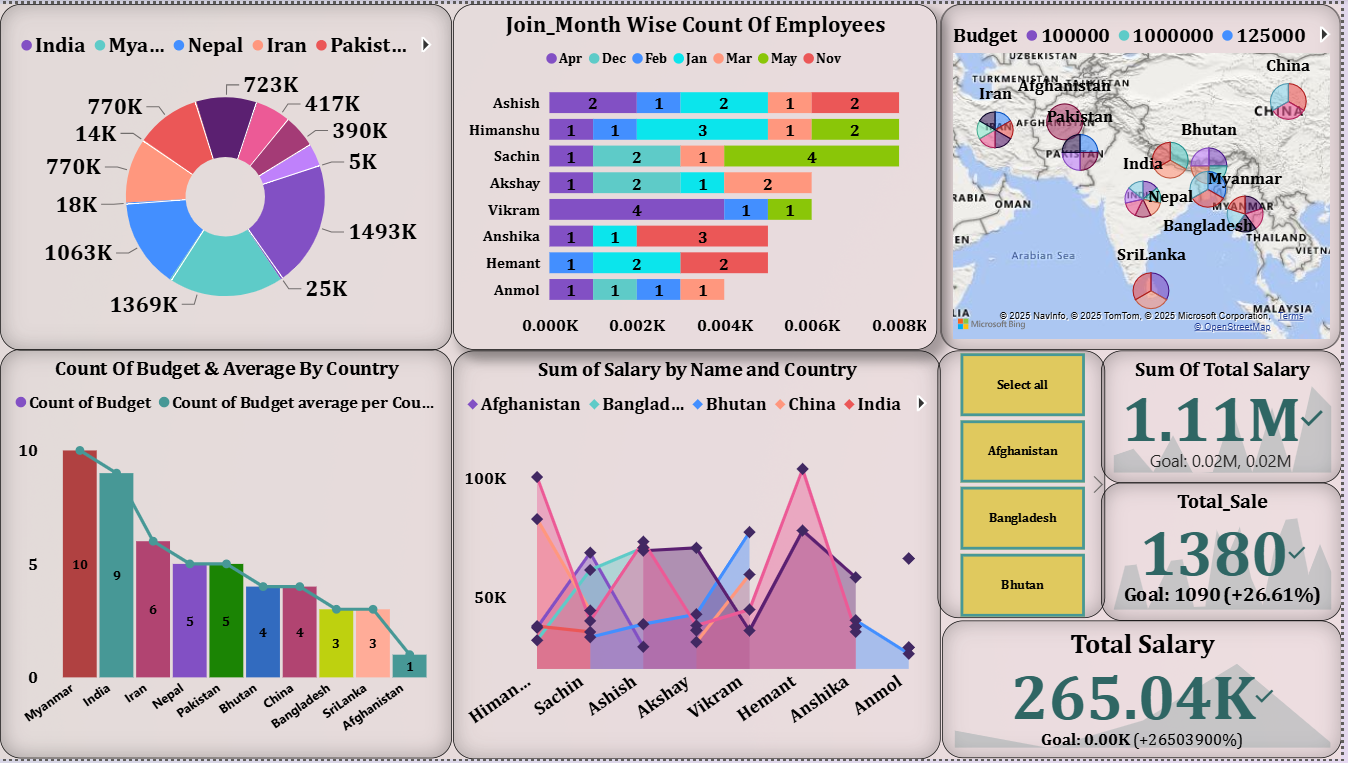

Layout of this report page (visuals, bound fields, positions):
{"tool":"powerbi","page":{"name":"Page 1","canvas":[1280,720],"ordinal":0},"visuals":[{"type":"donutChart","title":"Total Profit By Company Name","fields":{"Category":["Department.Country","Employee.Company_Name"],"Y":["Employee.Salary","Employee.Unit_Price"]},"box":[0,0,431,330.4],"z":0},{"type":"lineClusteredColumnComboChart","title":"Count Of Budget & Average By Country","fields":{"Category":["Department.Country"],"Y":["Department.Budget"],"Y2":["Department.Count of Budget average per Country"]},"box":[0,329.8,431.2,390.4],"z":1000},{"type":"barChart","title":"Join_Month Wise Count Of Employees","fields":{"Category":["Employee.Name"],"Series":["Employee.Join_Month"],"Y":["Employee.Name"]},"box":[431.7,0,461.7,330],"z":2000},{"type":"areaChart","fields":{"Series":["Employee.Country"],"Y":["Employee.Salary"],"Category":["Employee.Name"]},"box":[431.9,330.4,465.2,389.9],"z":3000},{"type":"kpi","title":"Total Salary","fields":{"Indicator":["Employee.Salary"],"Goal":["Employee.Grade"],"TrendLine":["Employee.Grade"]},"box":[898.7,588.6,381.3,131.6],"z":4000},{"type":"kpi","title":"Total_Sale","fields":{"Indicator":["Employee.Unit_Price"],"TrendLine":["Employee.Unit_Price"],"Goal":["Employee.UnitSold"]},"box":[1050,456.7,230,131.7],"z":5000},{"type":"kpi","title":"Sum Of Total Salary","fields":{"TrendLine":["Department.Budget"],"Indicator":["Employee.Salary"],"Goal":["Employee.Unit_Price","Employee.UnitSold"]},"box":[1050,330,230,126.7],"z":6000},{"type":"map","fields":{"Category":["Department.Country"],"Series":["Department.Budget"]},"box":[897,0,382,330],"z":7000},{"type":"slicer","fields":{"Values":["Department.Country"]},"box":[894,330,160,255],"z":7001}]}

Visuals, with their boxes in screenshot pixels (x1, y1, x2, y2), scaled from the page's 1280x720 canvas onto the 1348x763 screenshot:
"Total Profit By Company Name" donutChart: 0, 0, 454, 350
"Count Of Budget & Average By Country" lineClusteredColumnComboChart: 0, 349, 454, 762
"Join_Month Wise Count Of Employees" barChart: 455, 0, 941, 350
areaChart - Employee.Country x Employee.Salary: 455, 350, 945, 762
"Total Salary" kpi: 946, 624, 1347, 762
"Total_Sale" kpi: 1106, 484, 1347, 624
"Sum Of Total Salary" kpi: 1106, 350, 1347, 484
map - Department.Country x Department.Budget: 945, 0, 1347, 350
slicer - Department.Country: 941, 350, 1110, 620
